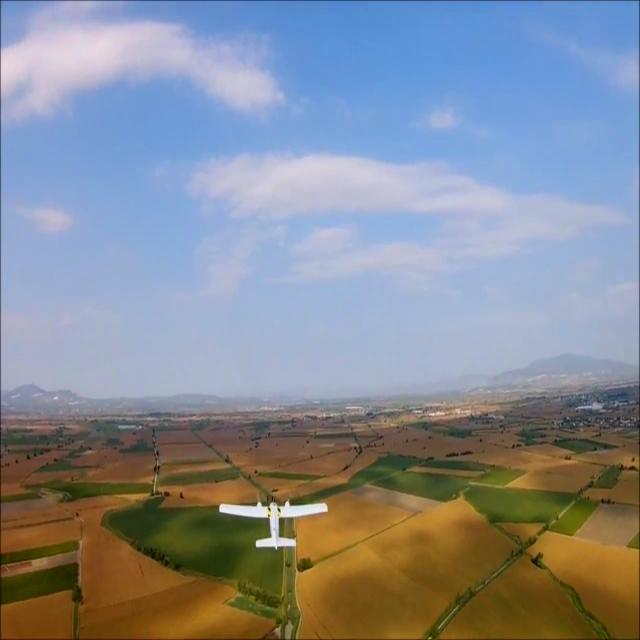iha: (246, 503, 304, 526)
